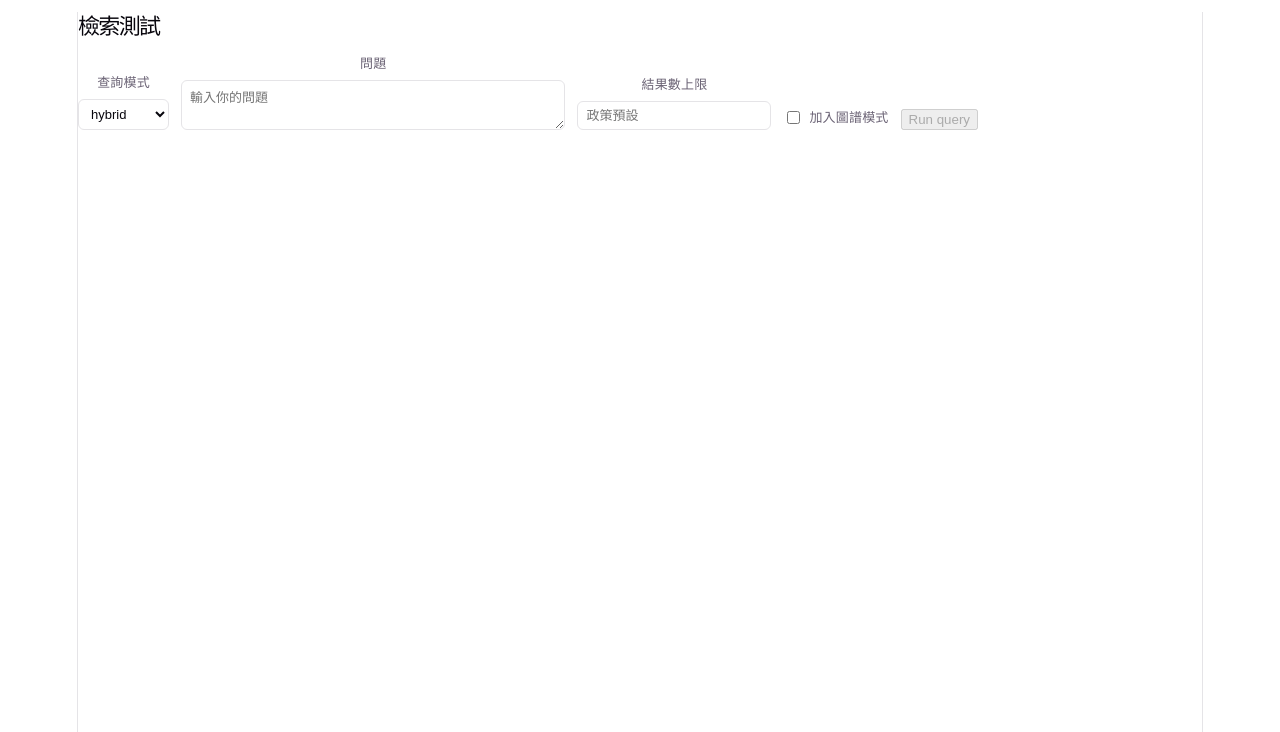
Test: Playground › runs the default (hybrid) query and shows results with citations
The image size is (1280, 732).
Type "what?" into the text box labelled "問題" at (373, 105), box left=181, top=80, right=565, bottom=130
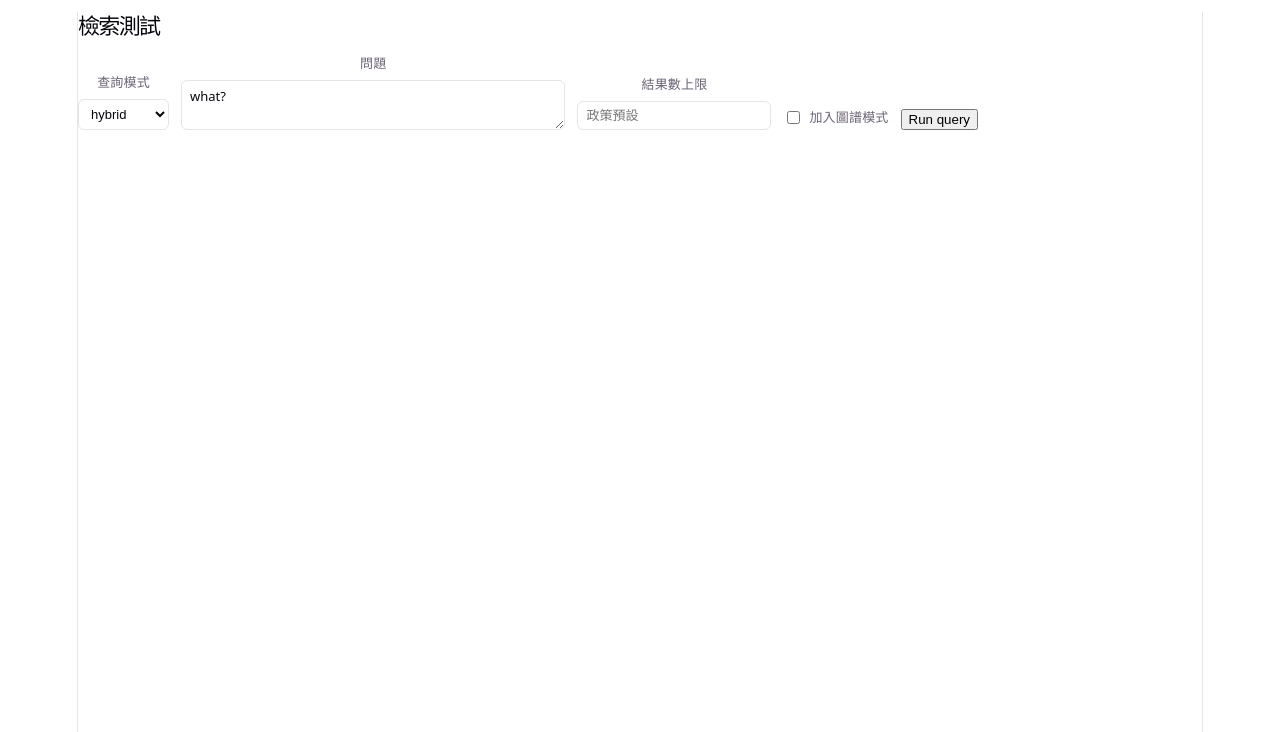
Click the button "Run query" at (939, 120), box left=900, top=109, right=978, bottom=130
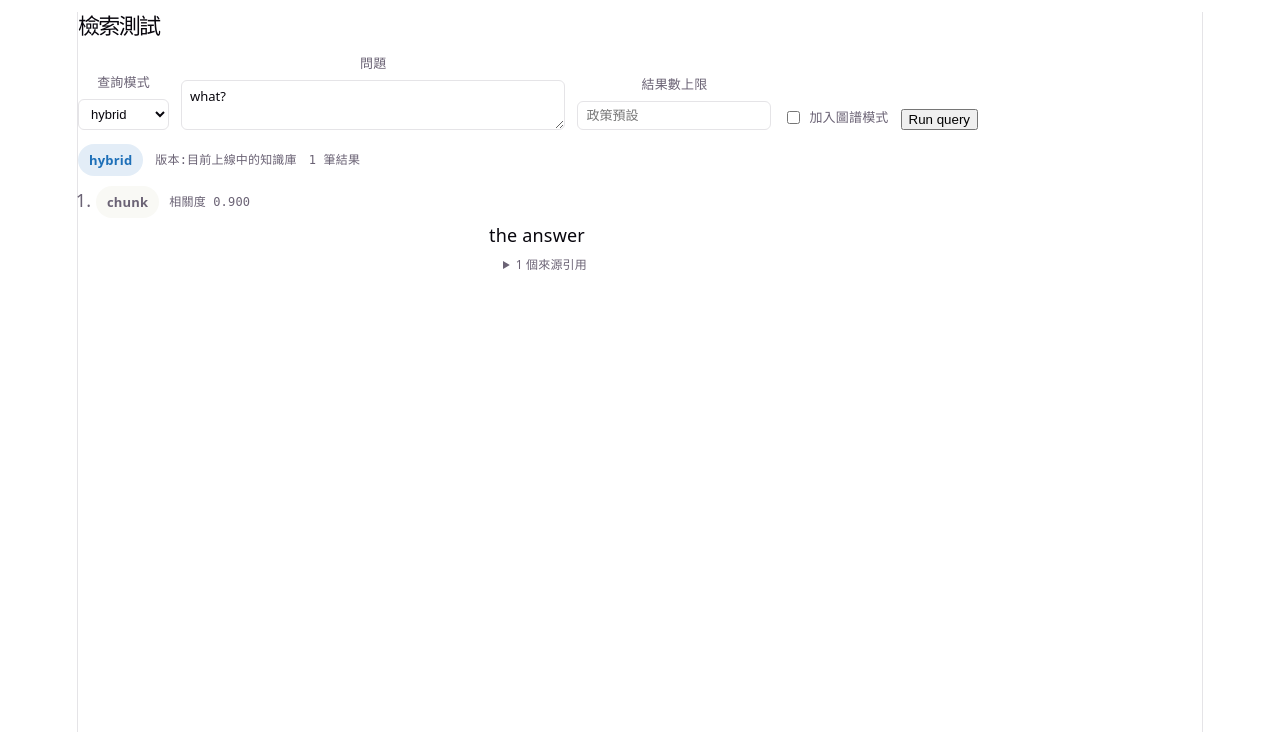
Expected: the text "the answer" is shown, left=489, top=223, right=585, bottom=247
